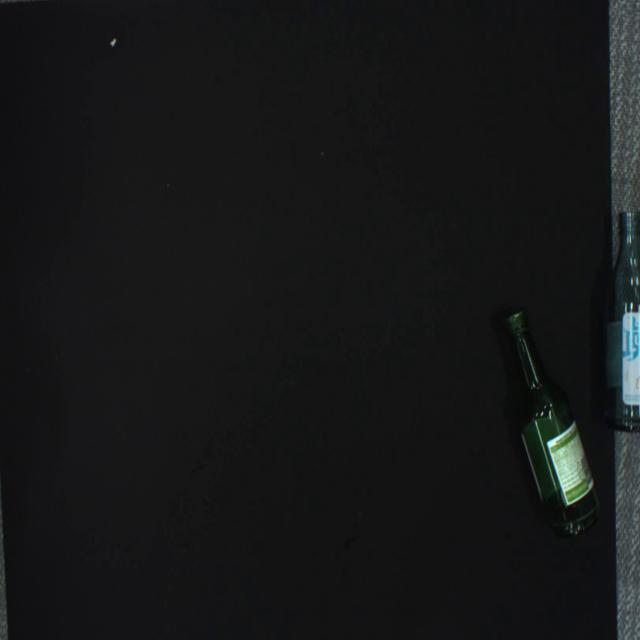soju-bottle: (503, 311, 602, 538), (601, 211, 640, 433)
